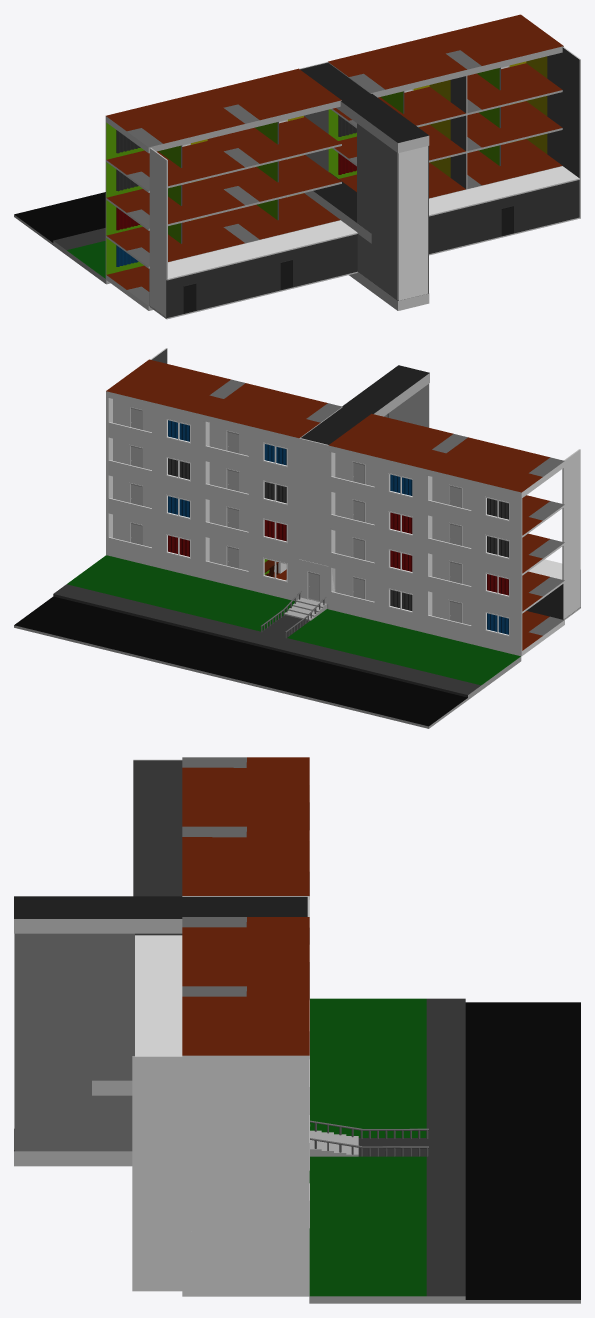
The model's file is BRD1.glb.
3 views of the same model, one above another, from view 1: azimuth 30°, elevation 25°; view 2: azimuth 150°, elevation 25°; view 3: azimuth 270°, elevation 25° (orthographic). The views are drawn at different scales.
Parts seen in each view (by area): view 1: Cube.099, Cube.129, Cube.079, Cube.118, Cube.065, Cube.068, Cube.111, Cube.084, Cube.134, Cube.072, Cube.114, Cube.113 (+29 smaller); view 2: Cube.134, Cube.118, Cube.065, Cube.068, Cube.111, Cube.083, Cube.072, Cube.056, Cube.123, Cube.125, Cube.106, Cube.077 (+21 smaller); view 3: Cube.134, Cube.075, Cube.058, Cube.068, Cube.111, Cube.065, Cube.118, Cube.072, Cube.077, Cube.078, Cube.085, Cube.101 (+4 smaller).
Part boxes in pixels (bbox=[...]): Cube.099: bbox=[166, 234, 357, 317]; Cube.129: bbox=[357, 123, 397, 300]; Cube.079: bbox=[429, 180, 579, 253]; Cube.118: bbox=[105, 92, 245, 153]; Cube.065: bbox=[328, 38, 467, 97]; Cube.068: bbox=[424, 14, 563, 75]; Cube.111: bbox=[202, 68, 341, 129]; Cube.084: bbox=[398, 146, 427, 300]; Cube.134: bbox=[14, 192, 110, 284]; Cube.072: bbox=[300, 63, 429, 153]; Cube.114: bbox=[207, 116, 341, 169]; Cube.113: bbox=[209, 155, 341, 207]; Cube.134: bbox=[14, 555, 521, 728]; Cube.118: bbox=[425, 437, 564, 498]; Cube.065: bbox=[202, 383, 342, 443]; Cube.068: bbox=[106, 359, 245, 420]; Cube.111: bbox=[328, 413, 467, 474]; Cube.083: bbox=[299, 438, 328, 565]; Cube.072: bbox=[301, 365, 429, 444]; Cube.056: bbox=[202, 421, 299, 481]; Cube.123: bbox=[425, 475, 522, 536]; Cube.125: bbox=[425, 590, 522, 651]; Cube.106: bbox=[328, 451, 424, 512]; Cube.077: bbox=[106, 397, 202, 458]; Cube.134: bbox=[309, 998, 580, 1303]; Cube.075: bbox=[14, 933, 132, 1151]; Cube.058: bbox=[132, 1056, 182, 1291]; Cube.068: bbox=[182, 986, 309, 1064]; Cube.111: bbox=[182, 826, 309, 896]; Cube.065: bbox=[182, 917, 309, 986]; Cube.118: bbox=[182, 757, 309, 826]; Cube.072: bbox=[14, 896, 307, 933]; Cube.077: bbox=[182, 1014, 309, 1120]; Cube.078: bbox=[182, 1070, 309, 1175]; Cube.085: bbox=[182, 1183, 309, 1289]; Cube.101: bbox=[133, 759, 182, 935].
Size of the model in its own units: 34.4 by 13.36 by 27.63.
1 material, 1 textured.
